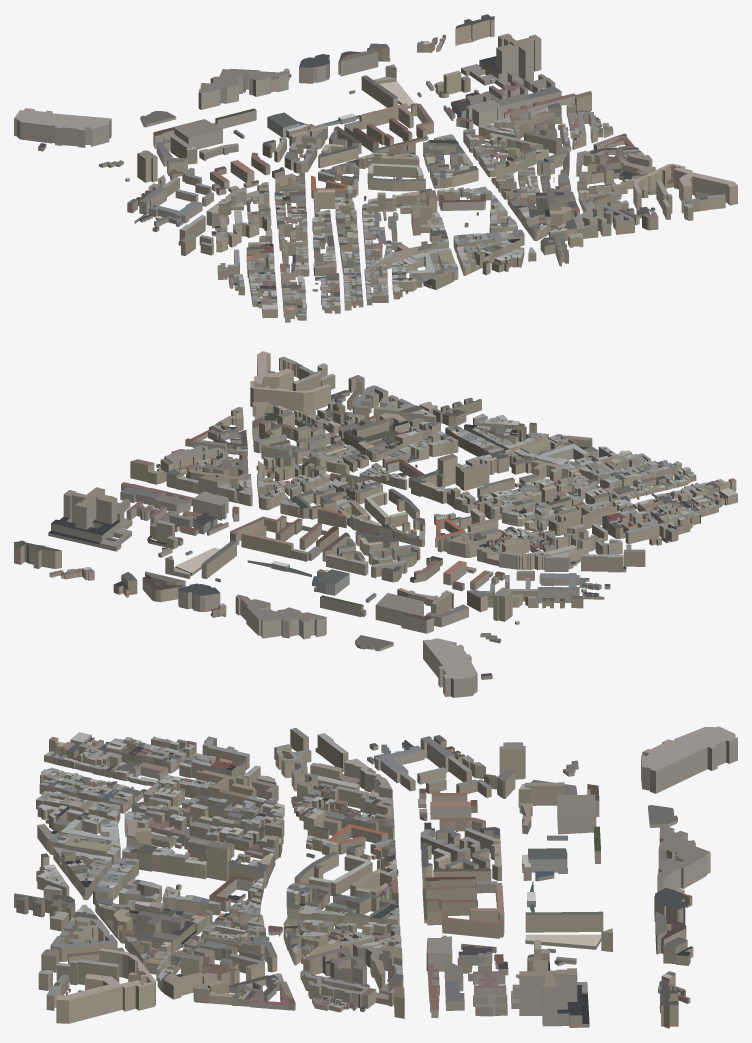
3 views of the same model, one above another, from view 1: azimuth 30°, elevation 25°; view 2: azimuth 150°, elevation 25°; view 3: azimuth 270°, elevation 25° (orthographic). The views are drawn at different scales.
Visible parts, largest first — view 1: tuile; view 2: tuile; view 3: tuile.
Boxes of the visible parts, x1,y1,x2,y2 form: tuile: (14, 14, 737, 322); tuile: (14, 351, 737, 697); tuile: (14, 726, 737, 1028).
Size of the model in its own units: 1065 by 78.42 by 1125.
